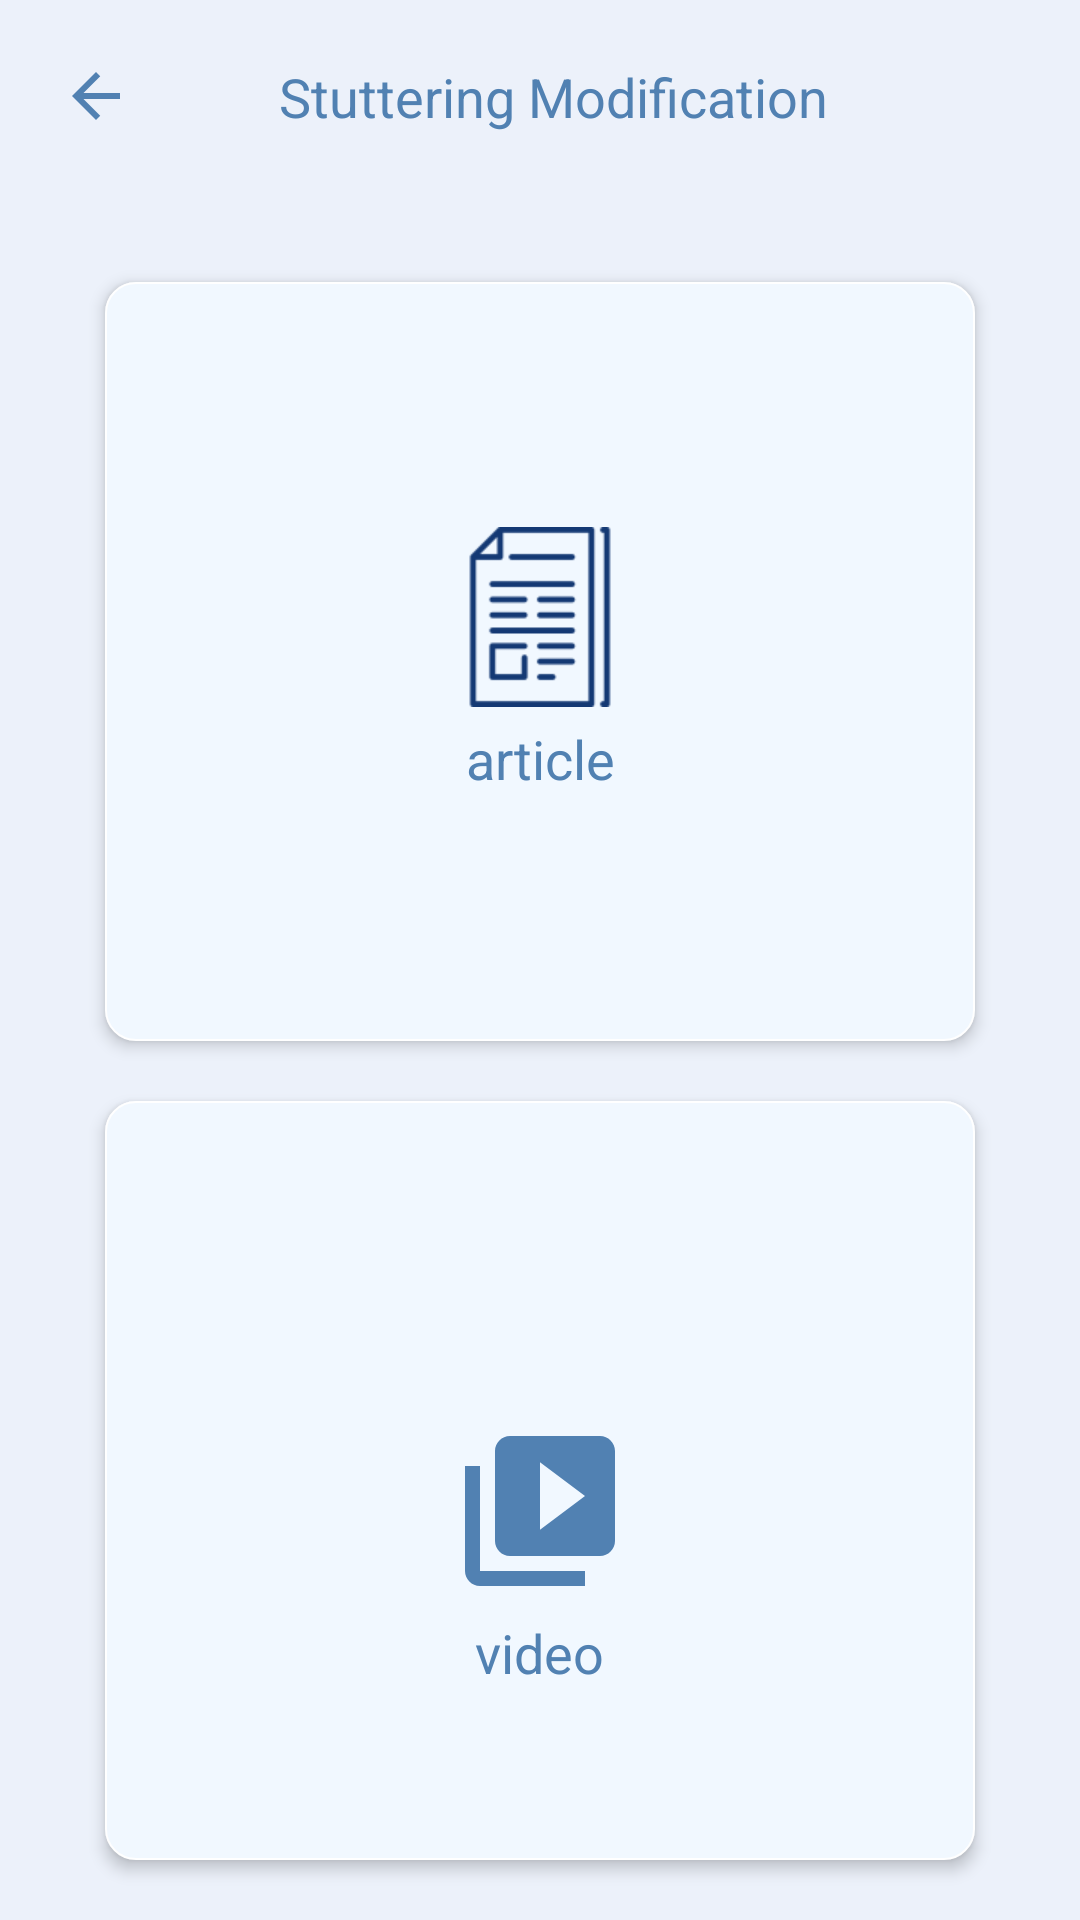

Icon click points for this 1080*1920 phone screenshot, format point (x, y):
arrow back: point (96, 96)
